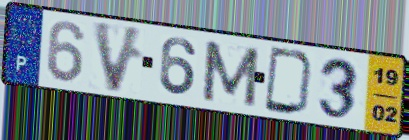3: (315, 54, 367, 123)
6: (44, 19, 87, 84), (160, 36, 198, 98)
D: (262, 44, 317, 118)
M: (200, 38, 262, 109)
V: (90, 18, 147, 96)
